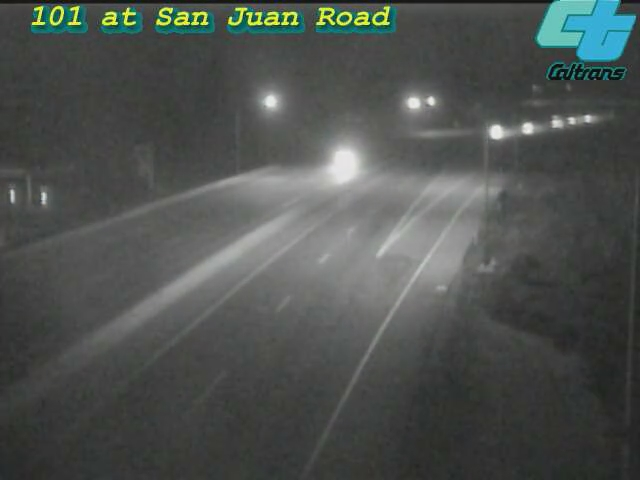vehicle: (306, 122, 386, 202), (562, 95, 612, 145), (548, 94, 598, 144), (531, 97, 581, 147), (500, 104, 550, 154), (471, 106, 521, 156)
